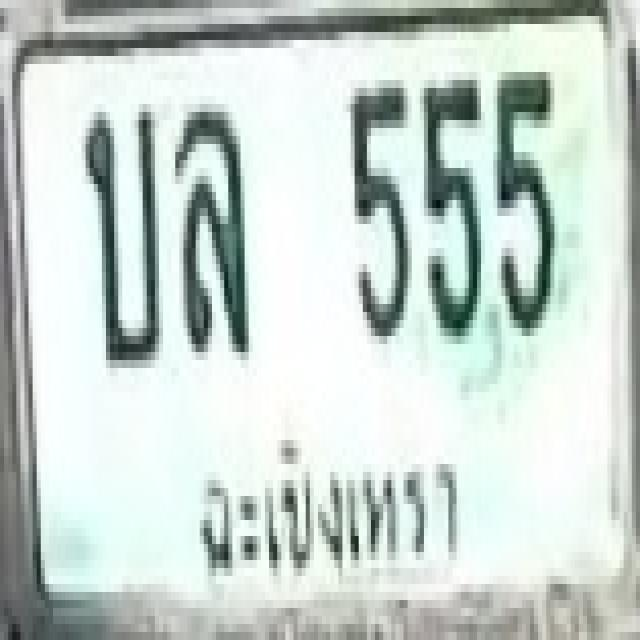5: (347, 80, 408, 336), (420, 72, 477, 336), (494, 64, 550, 328)
A26: (82, 104, 159, 360)
A36: (173, 100, 247, 348)
CCO: (182, 428, 467, 592)
